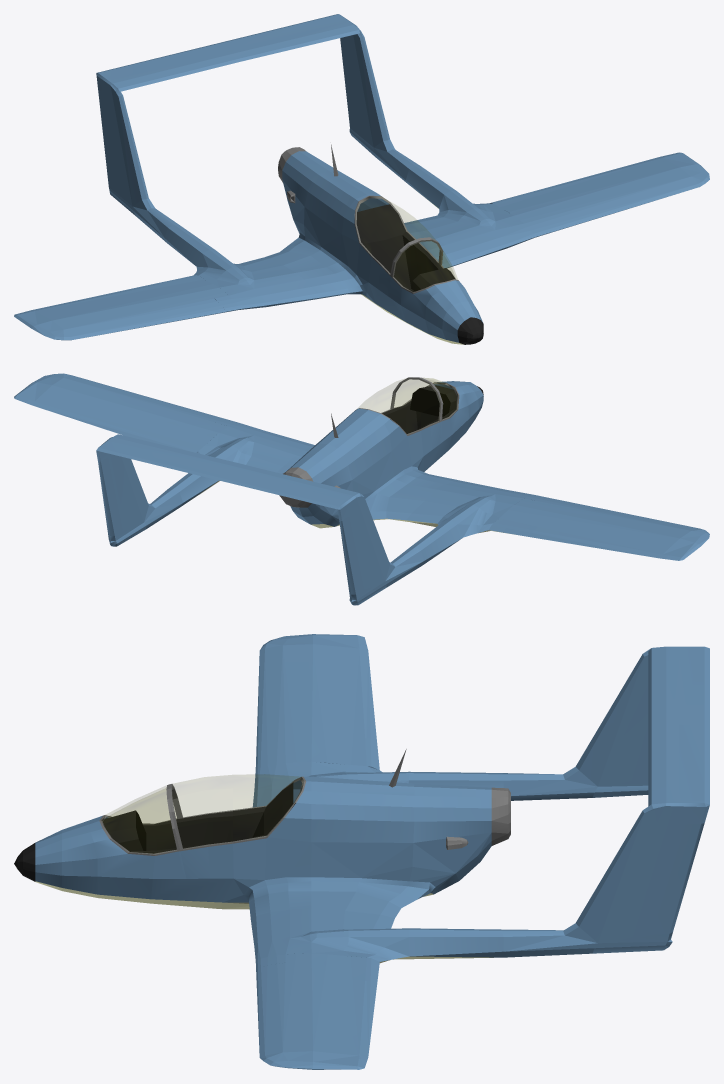
The model's file is aircraft_5_damage.glb.
The picture shows the model from 3 angles, top to bottom: view 1: azimuth 30°, elevation 25°; view 2: azimuth 150°, elevation 25°; view 3: azimuth 270°, elevation 25°; orthographic projection. The views are drawn at different scales.
Parts seen in each view (by area): view 1: body, OuterWingLeft, OuterWingRight, TailBreakaway, HorizontalBridge, elevator, VerticalTipRight, VerticalTipLeft, outer wing left, outer wing right, aileron left, canopy (+4 smaller); view 2: body, OuterWingLeft, TailBreakaway, OuterWingRight, elevator, aileron left, VerticalTipRight, aileron right, outer wing right, outer wing left, HorizontalBridge, VerticalTipLeft (+4 smaller); view 3: body, TailBreakaway, OuterWingRight, OuterWingLeft, VerticalTipLeft, elevator, canopy, HorizontalBridge, outer wing right, VerticalTipRight, outer wing left, aileron right (+3 smaller).
Part boxes in pixels (bbox=[...]): body: bbox=[162, 144, 549, 344]; OuterWingLeft: bbox=[529, 152, 709, 224]; OuterWingRight: bbox=[14, 282, 197, 340]; TailBreakaway: bbox=[108, 86, 416, 239]; HorizontalBridge: bbox=[142, 29, 324, 82]; elevator: bbox=[100, 15, 345, 79]; VerticalTipRight: bbox=[96, 72, 155, 166]; VerticalTipLeft: bbox=[315, 14, 380, 107]; outer wing left: bbox=[490, 192, 576, 233]; outer wing right: bbox=[160, 275, 228, 317]; aileron left: bbox=[532, 155, 672, 196]; canopy: bbox=[354, 195, 440, 275]; body: bbox=[166, 377, 547, 567]; OuterWingLeft: bbox=[14, 373, 196, 443]; TailBreakaway: bbox=[108, 479, 421, 605]; OuterWingRight: bbox=[528, 503, 709, 560]; elevator: bbox=[100, 441, 345, 508]; aileron left: bbox=[26, 395, 166, 443]; VerticalTipRight: bbox=[315, 483, 380, 555]; aileron right: bbox=[529, 524, 673, 559]; outer wing right: bbox=[489, 497, 574, 536]; outer wing left: bbox=[158, 410, 228, 452]; HorizontalBridge: bbox=[142, 443, 321, 490]; VerticalTipLeft: bbox=[96, 434, 155, 496]; body: bbox=[14, 749, 510, 969]; TailBreakaway: bbox=[510, 723, 672, 957]; OuterWingRight: bbox=[256, 634, 376, 742]; OuterWingLeft: bbox=[256, 975, 376, 1069]; VerticalTipLeft: bbox=[597, 779, 709, 892]; elevator: bbox=[679, 648, 709, 802]; canopy: bbox=[169, 774, 306, 849]; HorizontalBridge: bbox=[648, 667, 678, 783]; outer wing right: bbox=[256, 729, 379, 770]; VerticalTipRight: bbox=[597, 646, 709, 736]; outer wing left: bbox=[256, 953, 379, 984]; aileron right: bbox=[345, 643, 376, 741].
Bounding box in the file's own units: 13.52 × 2.62 × 9.16.
